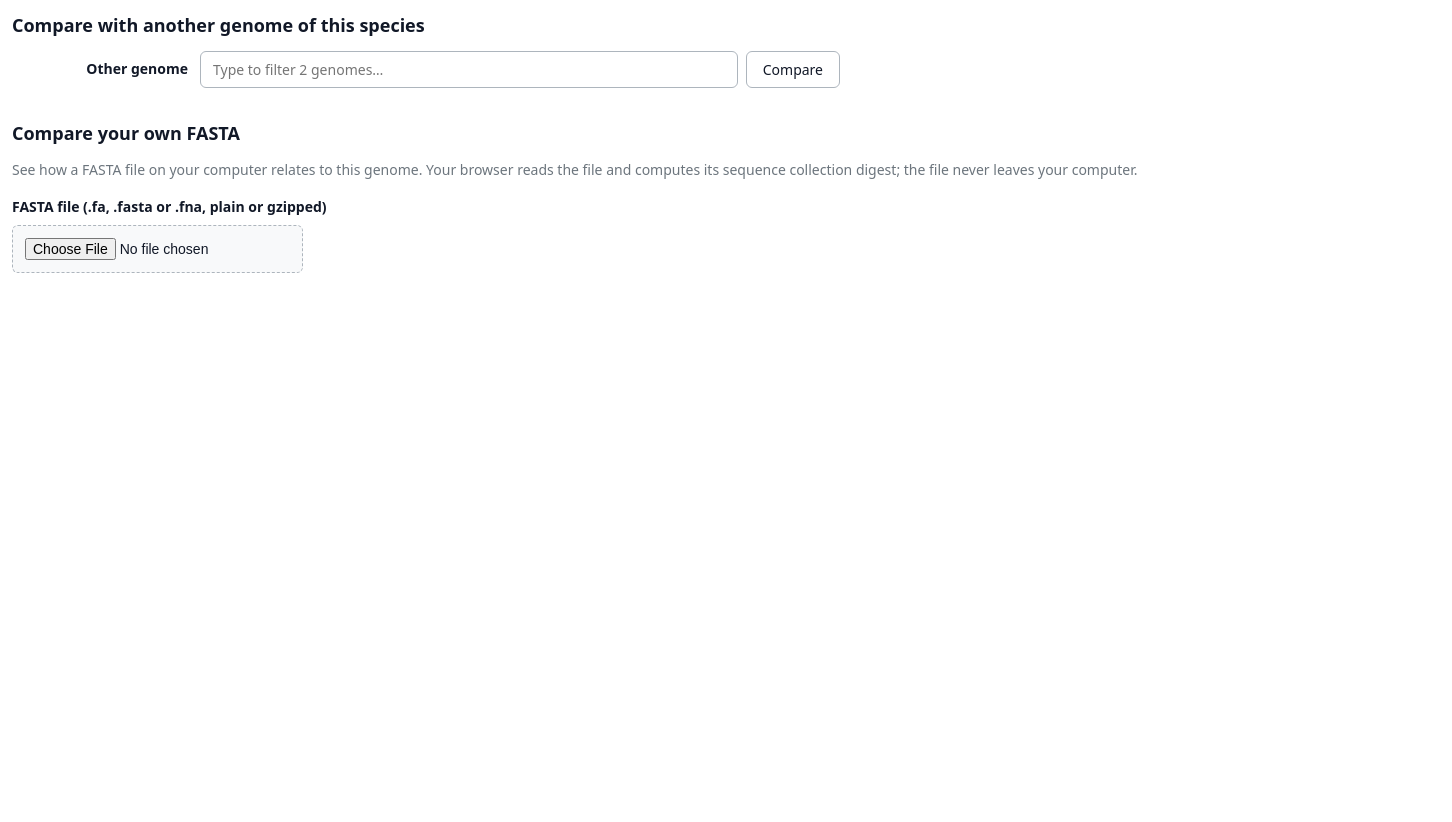
Test: ComparePanel › shows the server summary in place of its own sentences, and lists renames
This screenshot has width=1452, height=822.
Type "rCRSd · GenBank" into the field labelled "Other genome" at (469, 70), box [200,51,738,88]
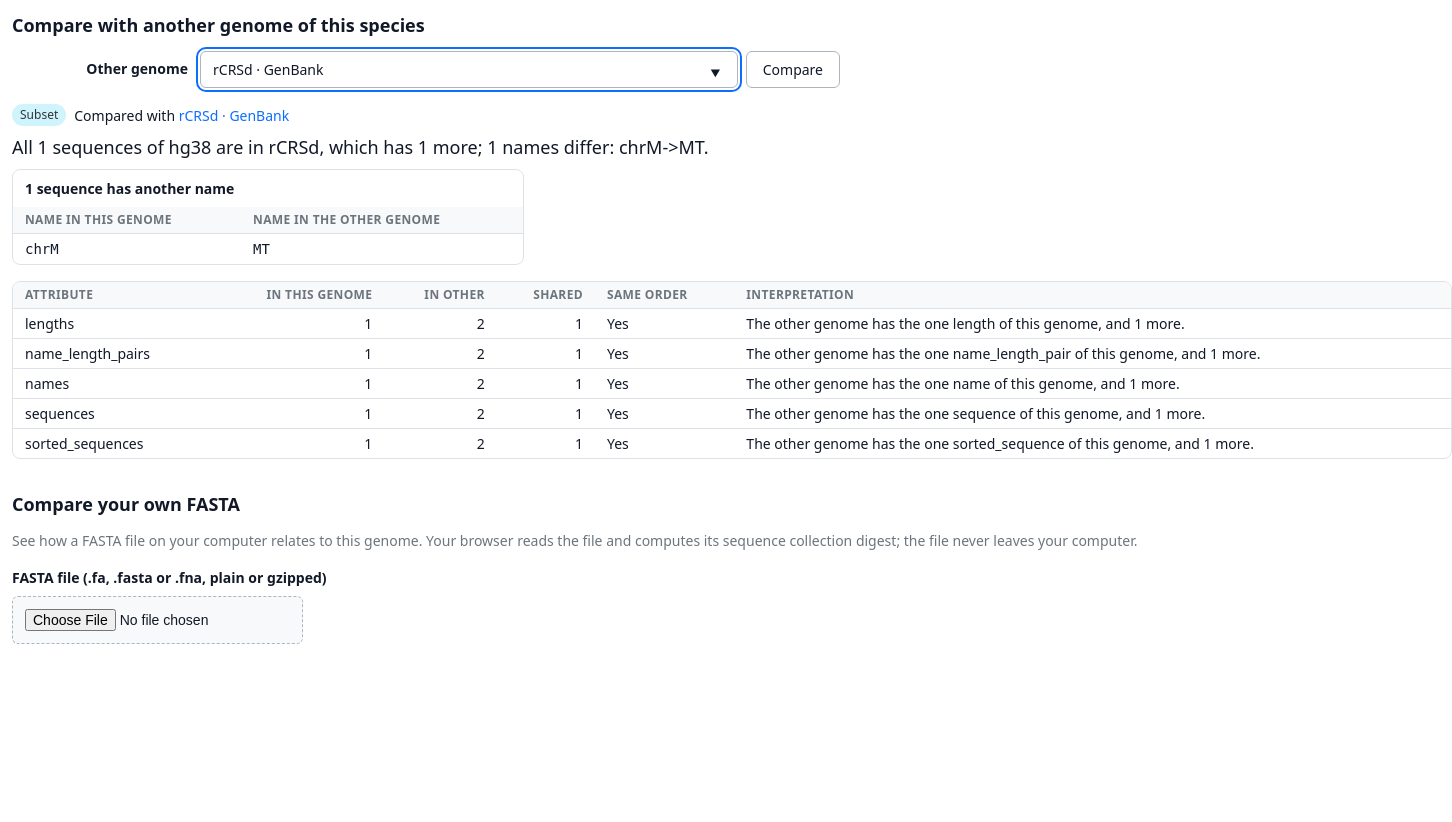
Result: the text "All 1 sequences of hg38 are in rCRSd, which has 1 more; 1 names differ: chrM->MT." is shown at [12,135,709,159]
Result: the text "MT" is shown at [253,241,270,257]
